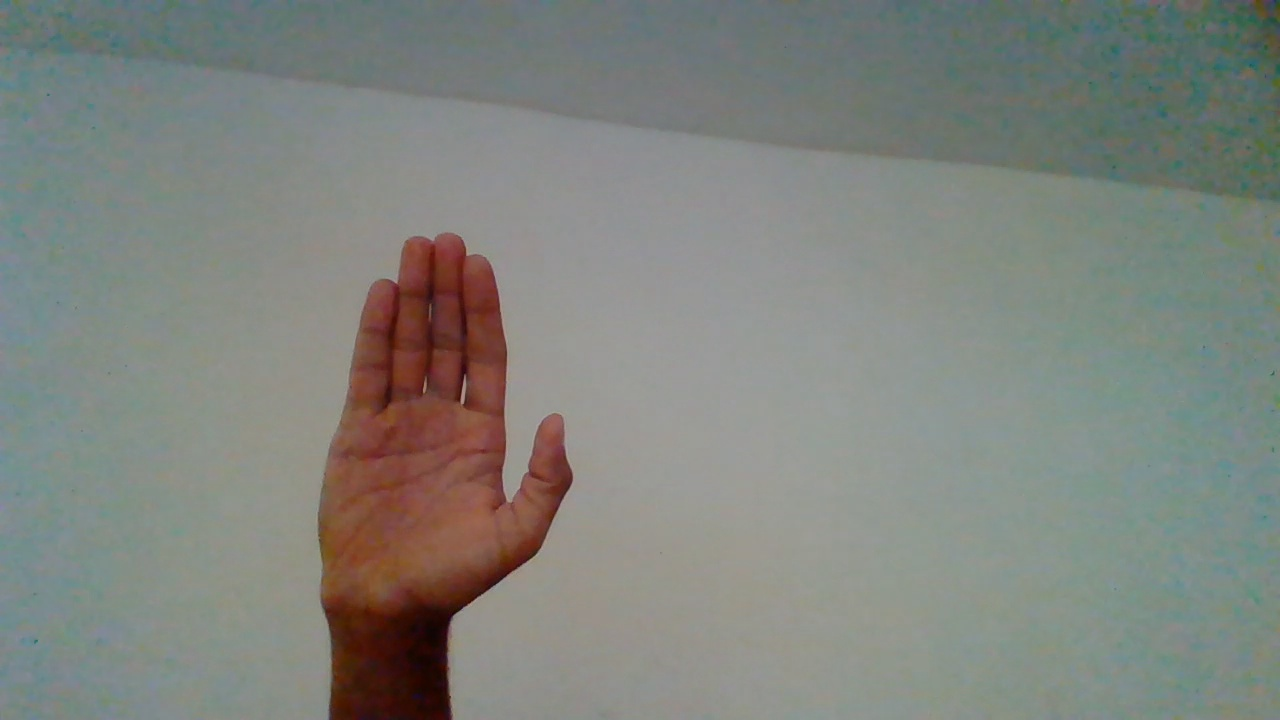ha: (314, 232, 577, 696)
